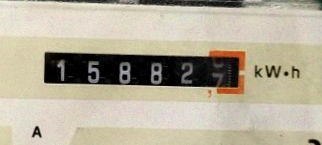1: (54, 55, 66, 82)
2: (178, 59, 194, 84)
5: (85, 57, 99, 84)
7: (209, 69, 224, 86)
8: (116, 58, 132, 84), (148, 59, 163, 85)
screen: (32, 39, 253, 102)
